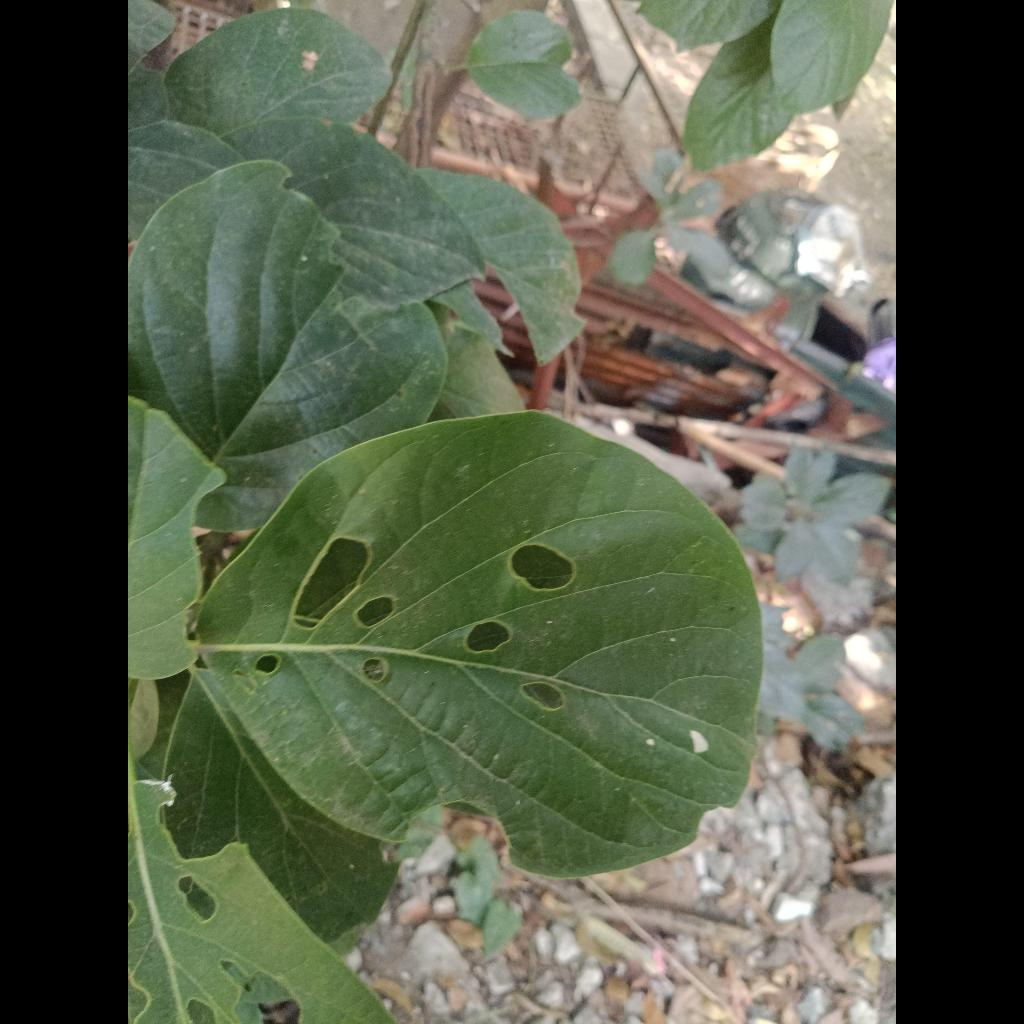Pest Infested: (195, 412, 761, 877)
